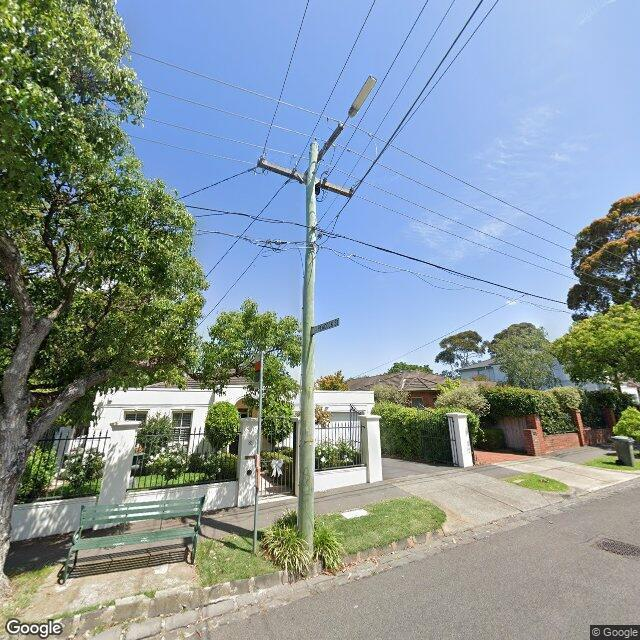crossarm: (255, 159, 355, 198), (301, 123, 345, 178)
streetlight: (340, 75, 377, 131)
timber-pole: (295, 138, 322, 556)
